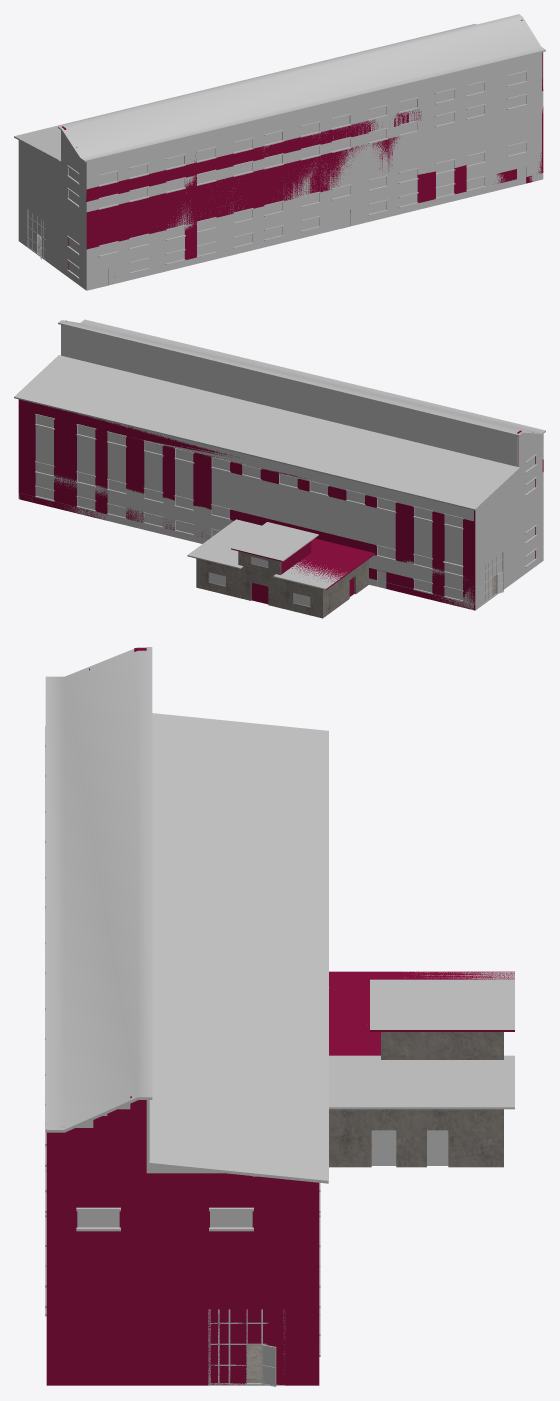
Rendered from outer.DAE.
3 views of the same model, one above another, from view 1: azimuth 30°, elevation 25°; view 2: azimuth 150°, elevation 25°; view 3: azimuth 270°, elevation 25° (orthographic). The views are drawn at different scales.
Visible parts, largest first — view 1: TS005_, TS037_, TS005-ch043, TS005-ch038, TS034_, TS006_, TS004-ins001, TS005-ch056, TS005-ch063, TS005-ch055; view 2: TS005_, TS006_, TS029_, TS037_, TS016_, TS035_, TS005-ch017, TS005-ch051, TS035-ch002, TS034_, TS005-ch052, TS005-ch049 (+12 smaller); view 3: TS006_, TS037_, TS005-ch002, TS035_, TS016_, TS005-ch007, TS005-ch012, TS005-ch003, TS005-ch014, TS035-ch002, TS004-ch001, TS034-ch008 (+6 smaller).
Part boxes in pixels (box(x1,y1,x2,y2)): TS005_: box(18, 47, 543, 284); TS037_: box(58, 14, 545, 162); TS005-ch043: box(86, 137, 399, 249); TS005-ch038: box(86, 109, 421, 201); TS034_: box(18, 173, 543, 290); TS006_: box(14, 24, 476, 161); TS004-ins001: box(27, 209, 46, 260); TS005-ch056: box(417, 171, 435, 202); TS005-ch063: box(185, 154, 196, 259); TS005-ch055: box(454, 165, 466, 194); TS005_: box(35, 322, 543, 603); TS006_: box(14, 355, 519, 510); TS029_: box(61, 325, 518, 466); TS037_: box(58, 319, 545, 436); TS016_: box(196, 551, 368, 618); TS035_: box(187, 519, 347, 589); TS005-ch017: box(20, 399, 305, 478); TS005-ch051: box(54, 419, 76, 506); TS035-ch002: box(292, 540, 375, 589); TS034_: box(18, 493, 543, 610); TS005-ch052: box(18, 410, 35, 496); TS005-ch049: box(126, 437, 144, 522); TS006_: box(149, 713, 328, 1183); TS037_: box(45, 647, 152, 1132); TS005-ch002: box(46, 1229, 208, 1372); TS035_: box(329, 972, 514, 1109); TS016_: box(329, 1032, 503, 1167); TS005-ch007: box(46, 1128, 146, 1208); TS005-ch012: box(208, 1229, 285, 1309); TS005-ch003: box(285, 1179, 319, 1369); TS005-ch014: box(146, 1173, 252, 1208); TS035-ch002: box(329, 971, 514, 1023); TS004-ch001: box(208, 1309, 246, 1384); TS034-ch008: box(50, 1373, 208, 1385).
Size of what is drawn, in the model's own units: 763 by 336 by 230.
